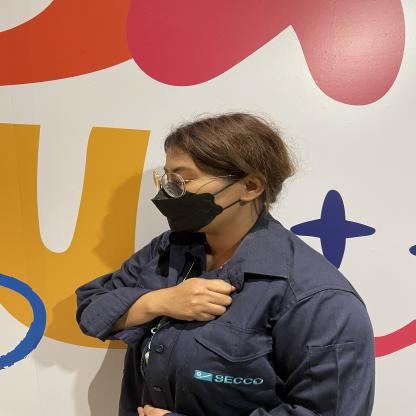Sadness: (56, 260, 266, 351)
